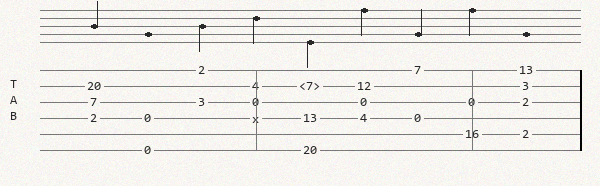0: (144, 112, 155, 124), (144, 144, 155, 156), (252, 96, 263, 108), (360, 96, 371, 108), (414, 112, 425, 124), (468, 96, 479, 108)
12: (357, 80, 375, 92)
13: (303, 112, 321, 124), (519, 64, 537, 76)
16: (465, 128, 483, 140)
2: (90, 112, 101, 124), (198, 64, 209, 76), (522, 128, 533, 140), (522, 96, 533, 108)
20: (87, 80, 105, 92), (303, 144, 321, 156)
3: (198, 96, 209, 108), (522, 80, 533, 92)
4: (252, 80, 263, 92), (360, 112, 371, 124)
7: (90, 96, 101, 108), (414, 64, 425, 76)
harmonic: (299, 80, 324, 92)
x: (252, 113, 263, 123)
